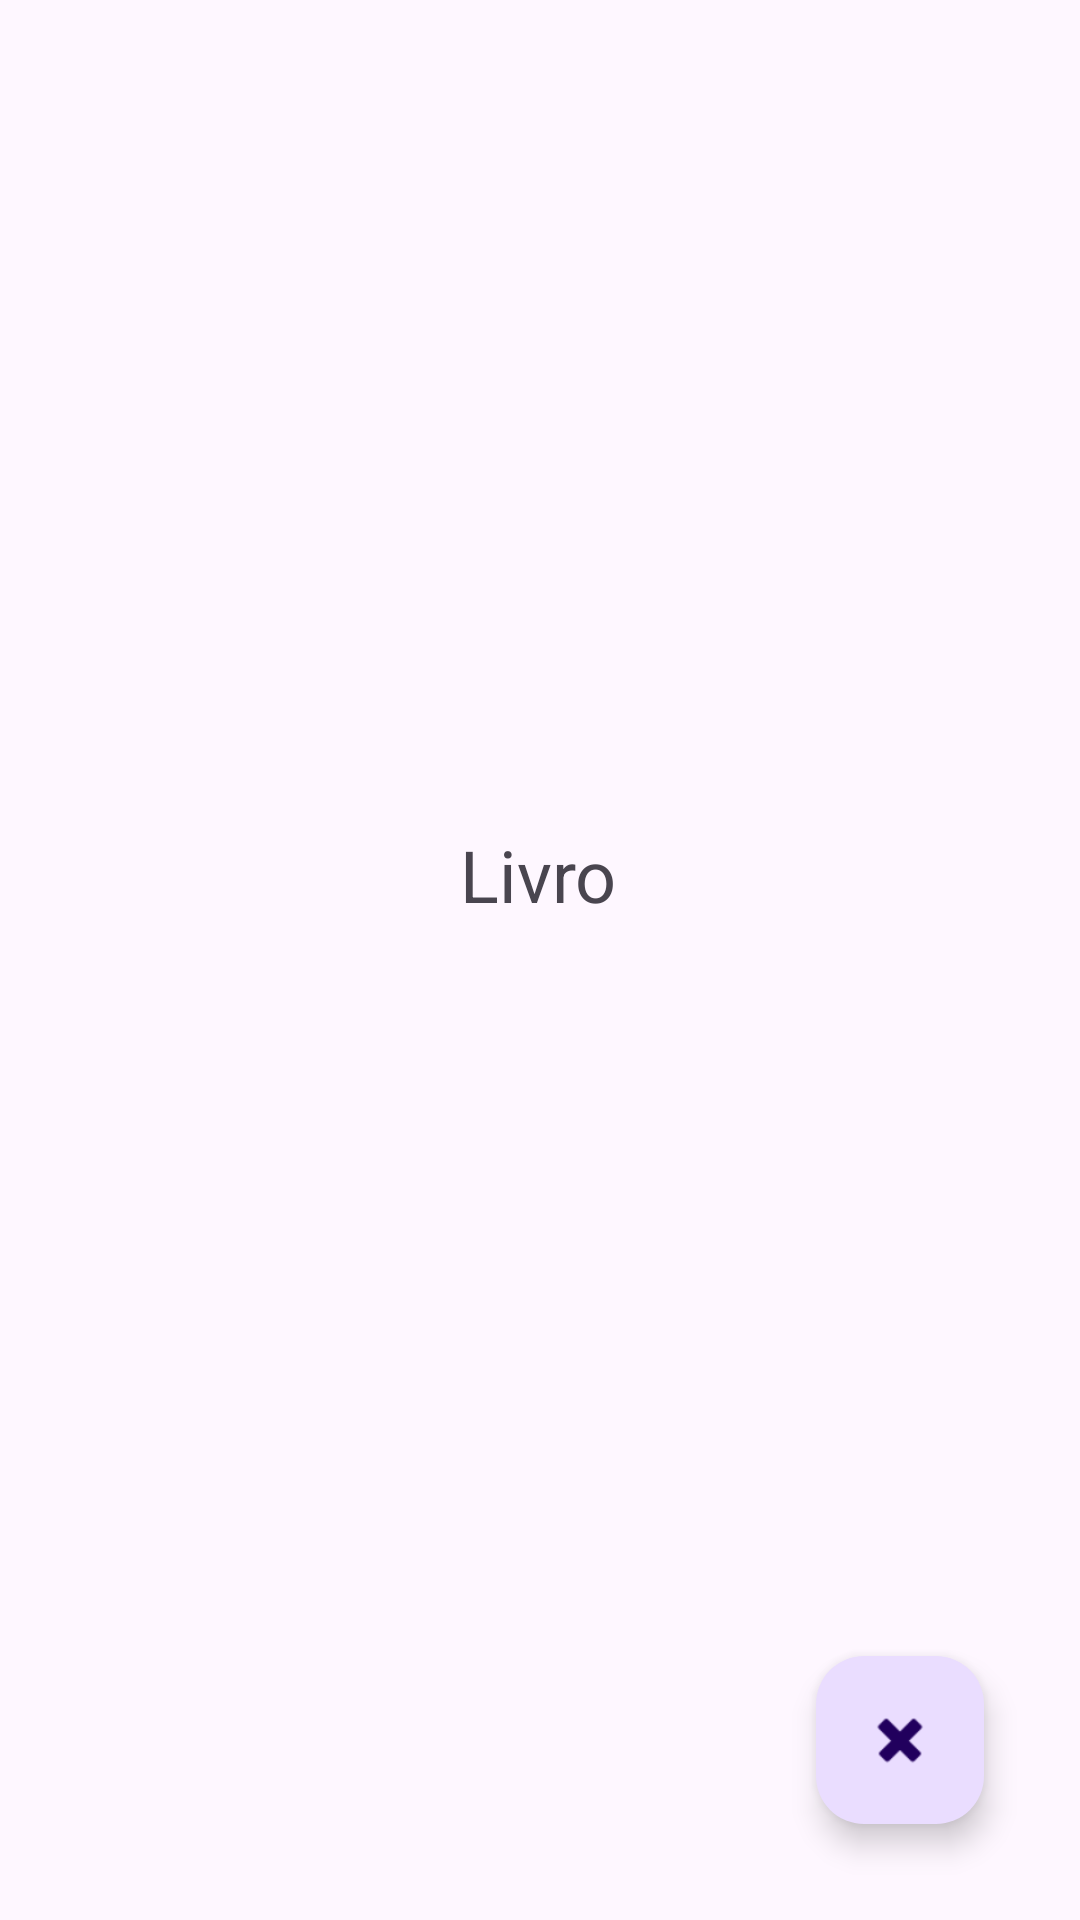

Screen size 1080*1920. Icon name, then its center in pixels as [x,y]:
delete: [900,1740]
